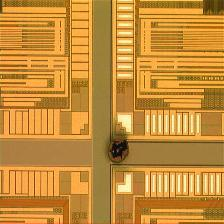PARTICLE: (104, 127, 132, 170)
